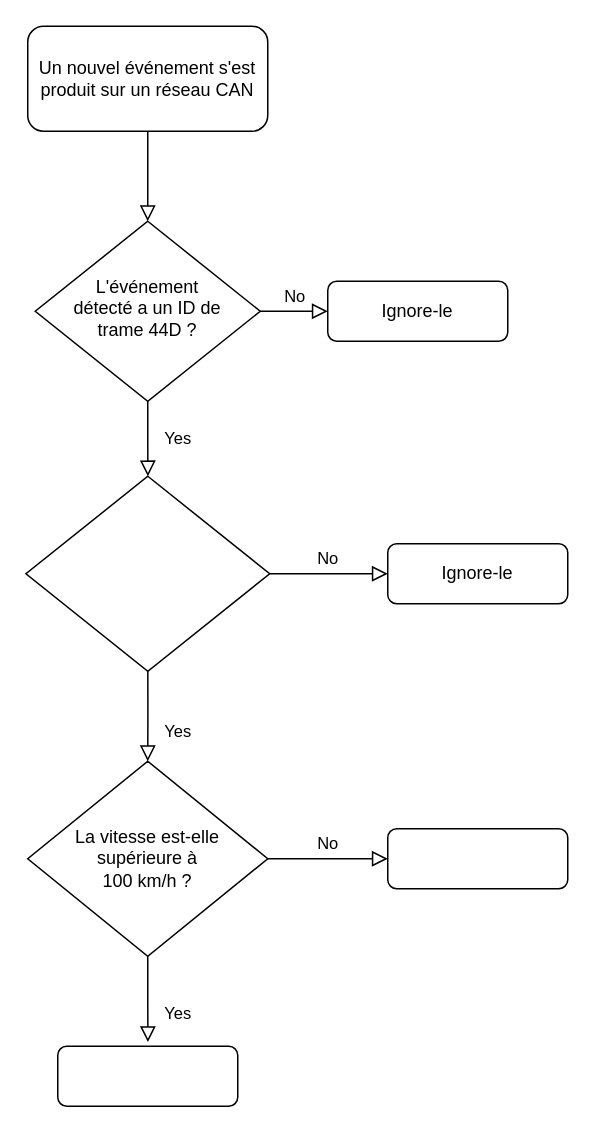
The diagram is 596 pixels wide and 1133 high, and some of its shapes have lost their labels. The centre of each missing label's shape, as x and y in pixels:
"Augmentez le volume" goes at point 147,1075.
"Baisser le volume" goes at point 477,858.
"L'événement détecté a une longueur de trame valide ?" goes at point 147,573.
